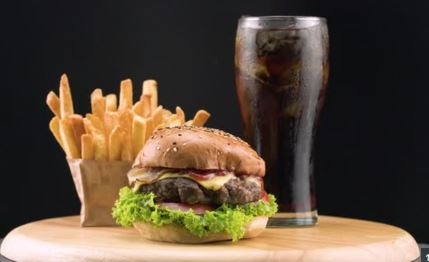burger: (132, 129, 278, 241)
chips: (45, 78, 203, 162)
